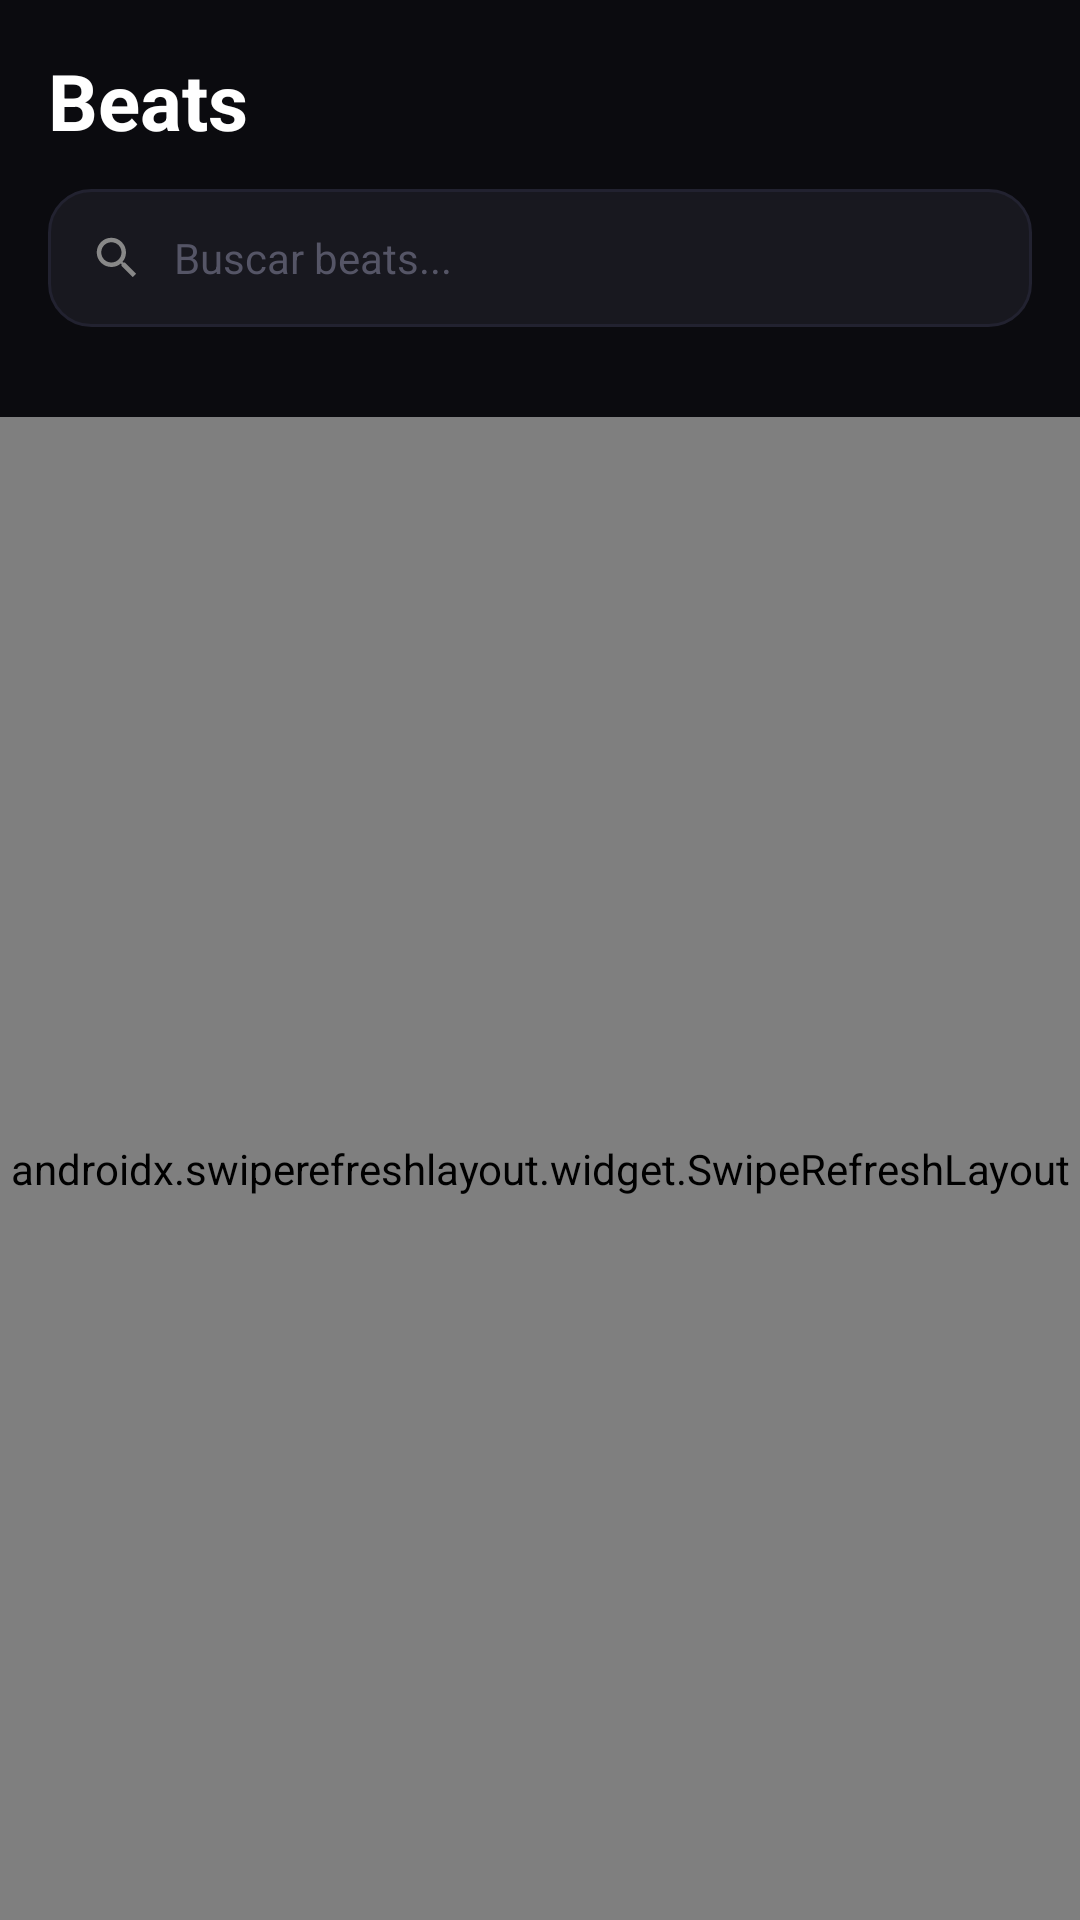

Where icons sit on this 1080px x 1920px app screen, as Rect(x1, y1, x2, y2):
search: Rect(96, 237, 136, 277)
